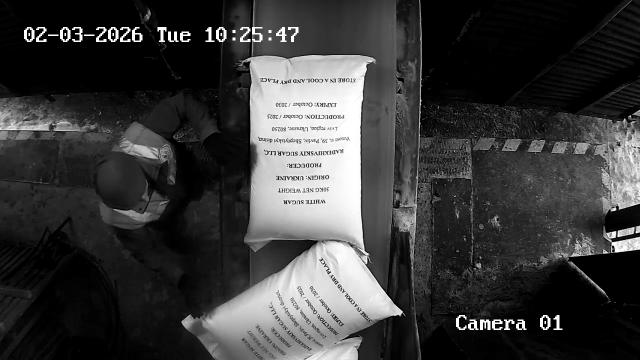bag: (244, 56, 374, 256), (182, 242, 402, 360), (302, 335, 363, 360)
